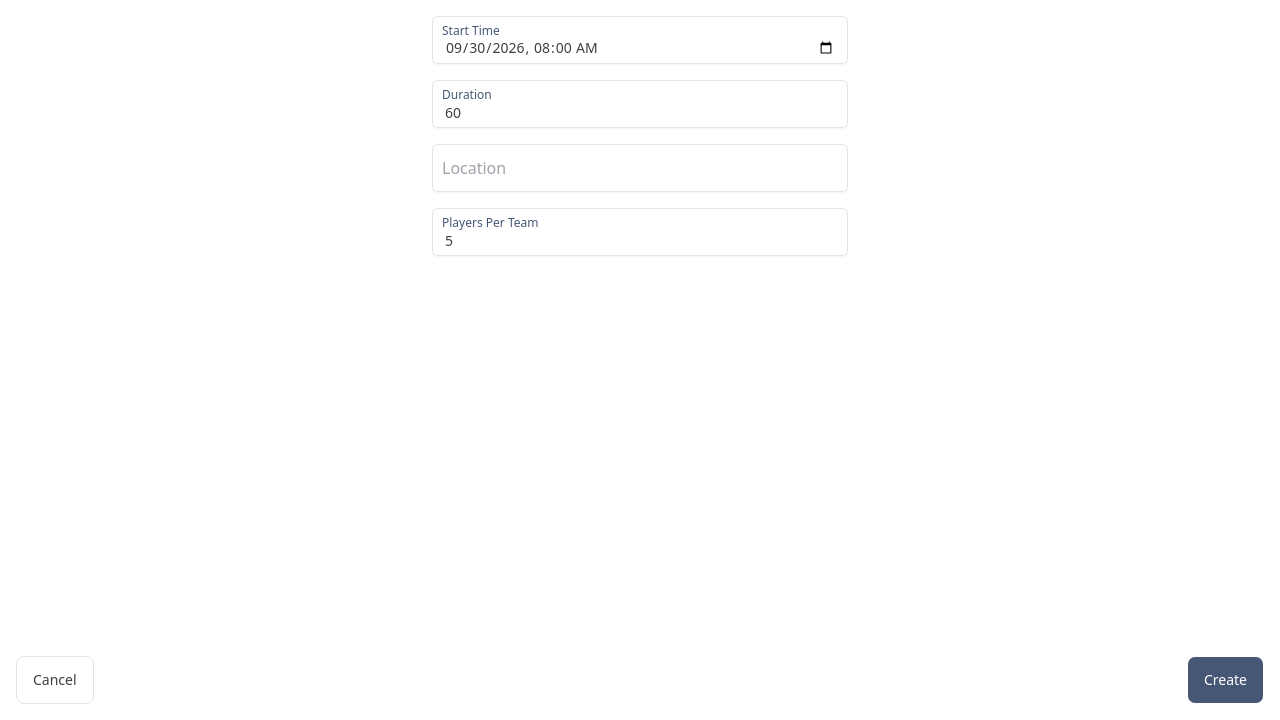
Scenario: NewGamePage › disables Create when Start Time is cleared
Step 1. Clear the field labelled "Start Time" → (640, 40), box [432,16,848,64]
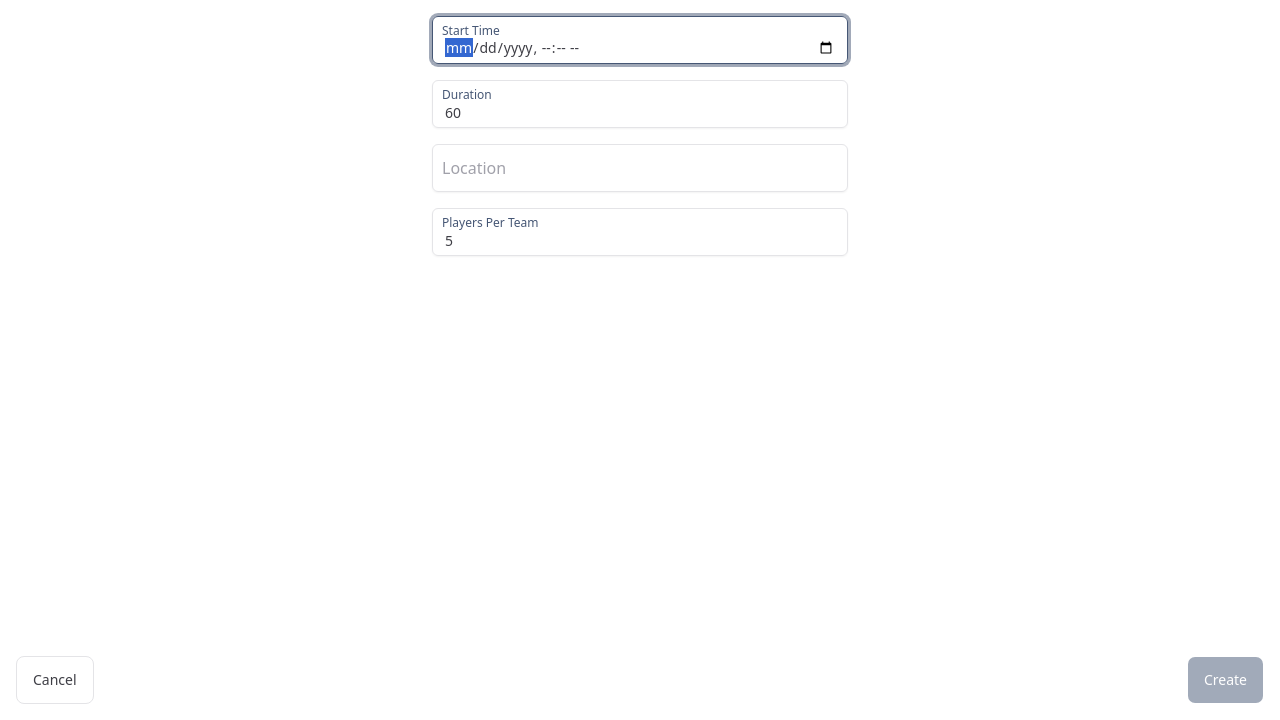
Expected: the button "Create" is disabled, [1187,656,1264,704]
